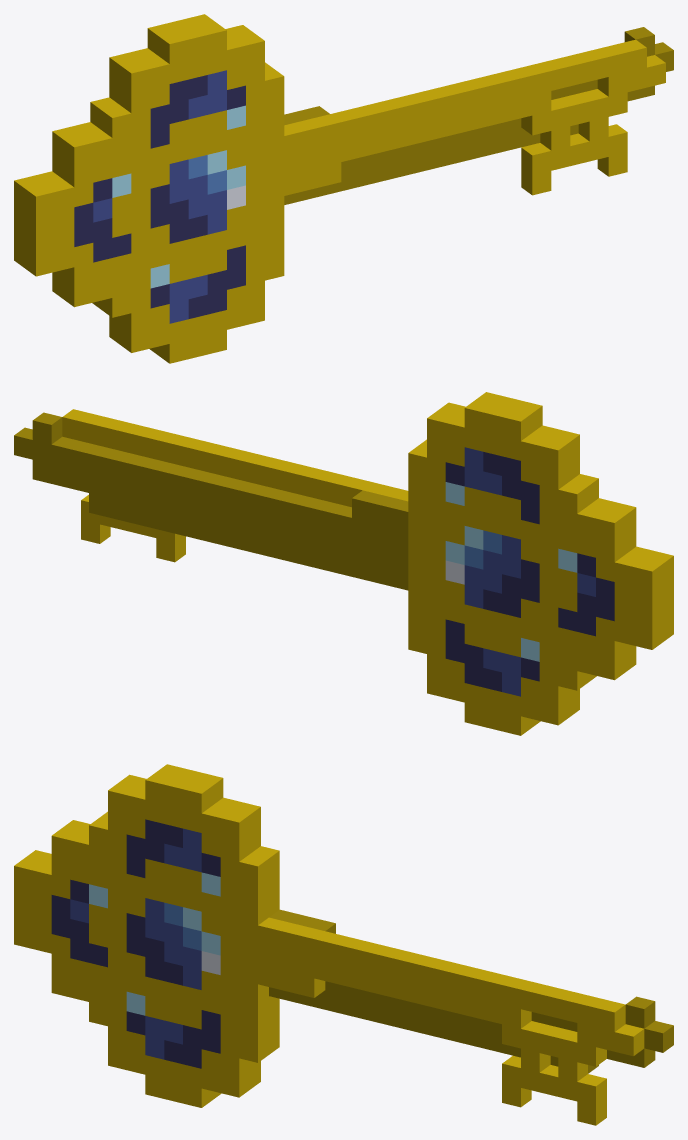
The model's file is key2.glb.
3 views of the same model, one above another, from view 1: azimuth 30°, elevation 25°; view 2: azimuth 150°, elevation 25°; view 3: azimuth 330°, elevation 25° (orthographic).
Visible parts, largest first — view 1: Untitled; view 2: Untitled; view 3: Untitled.
Boxes of the visible parts, left/top/right/bottom form: Untitled: left=14, top=14, right=673, bottom=363; Untitled: left=14, top=392, right=673, bottom=735; Untitled: left=14, top=764, right=673, bottom=1125.
Bounding box in the file's own units: 3.4 × 1.6 × 0.2.
Materials: 1 (1 with a texture image).
